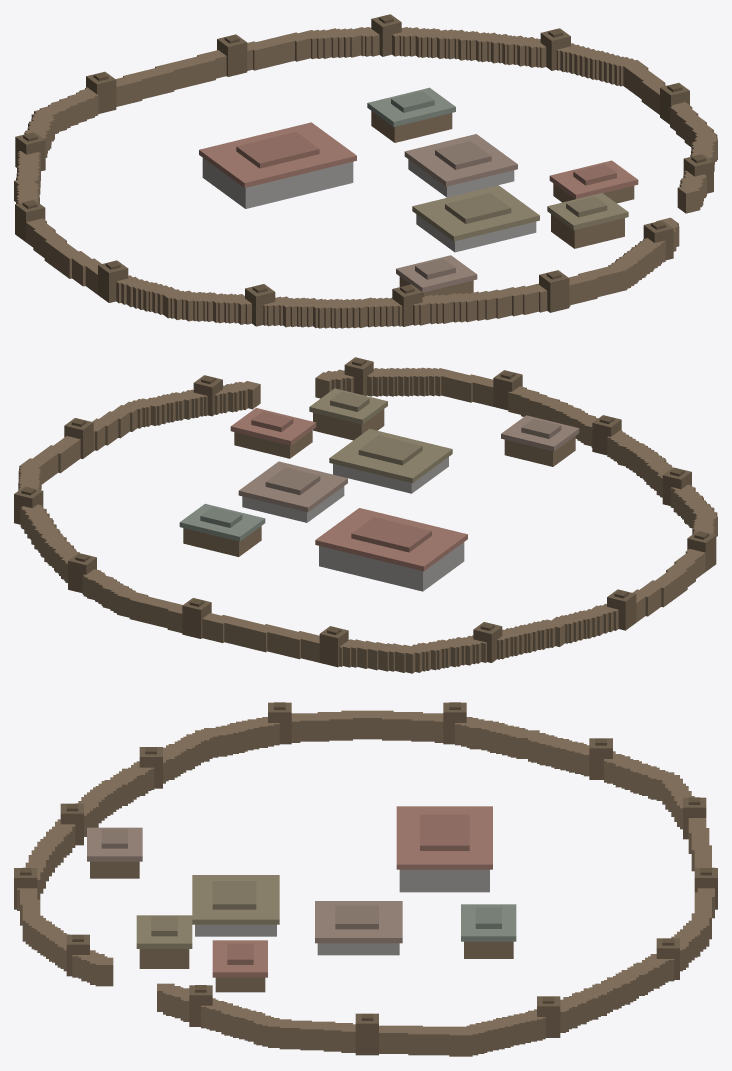
Rendered from ciudad_aldea_maderera_2958_693_01.glb.
3 renders of one model, top to bottom at view 1: azimuth 30°, elevation 25°; view 2: azimuth 150°, elevation 25°; view 3: azimuth 270°, elevation 25°, orthographic. The views are drawn at different scales.
Visible parts, largest first — view 1: ciudad_aldea_maderera_2958_693; view 2: ciudad_aldea_maderera_2958_693; view 3: ciudad_aldea_maderera_2958_693.
Boxes of the visible parts, x1=… form: ciudad_aldea_maderera_2958_693: x1=14, y1=14, x2=717, y2=328; ciudad_aldea_maderera_2958_693: x1=14, y1=357, x2=717, y2=673; ciudad_aldea_maderera_2958_693: x1=14, y1=702, x2=717, y2=1056.
Bounding box in the file's own units: 65.75 × 3.25 × 60.25.
